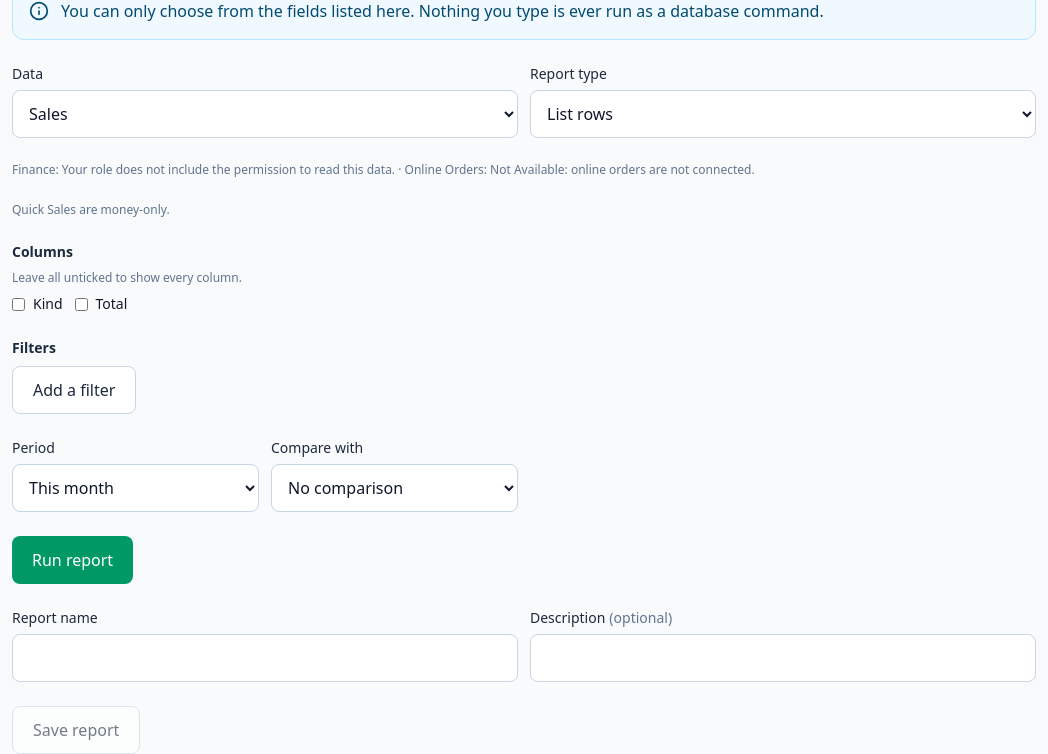
report builder › saves a named report
(page scrolled)
Expected: the dropdown labelled "Data" is shown, x1=12 y1=90 x2=518 y2=138
Expected: the button "Save report" is disabled, x1=12 y1=706 x2=140 y2=753
Type "Cash sales" into the field labelled "Report name".
click(265, 658); type("Cash sales")  # box x1=12 y1=634 x2=518 y2=682
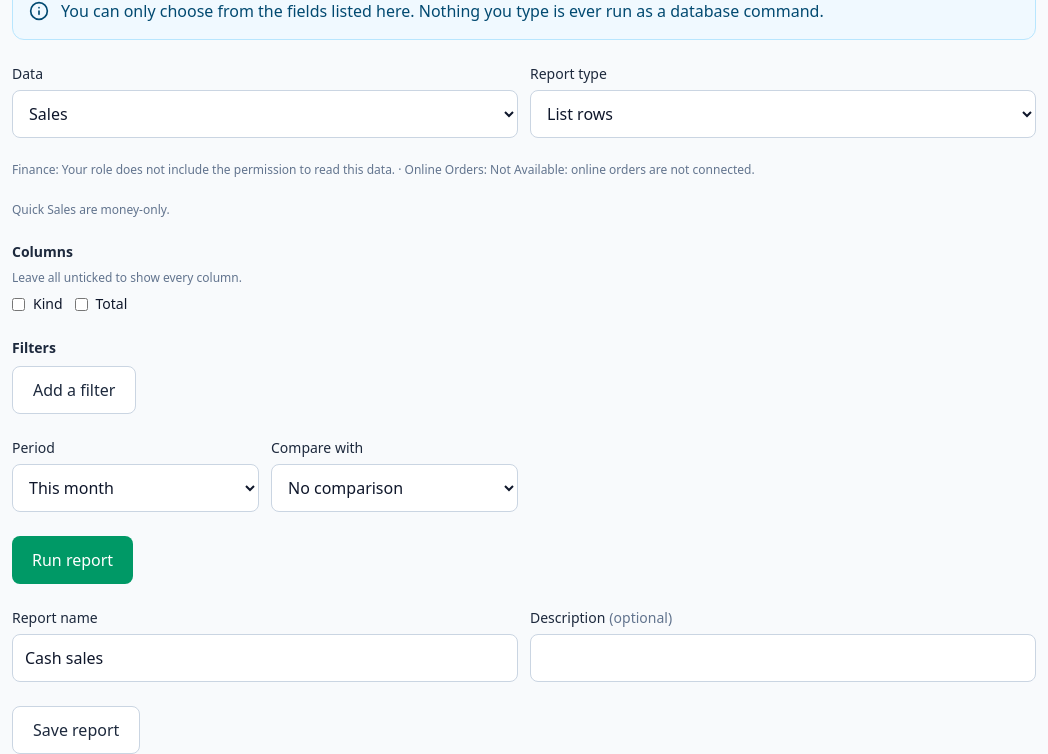
Click the button "Save report".
click(76, 730)  # box x1=12 y1=706 x2=140 y2=753
(page scrolled)
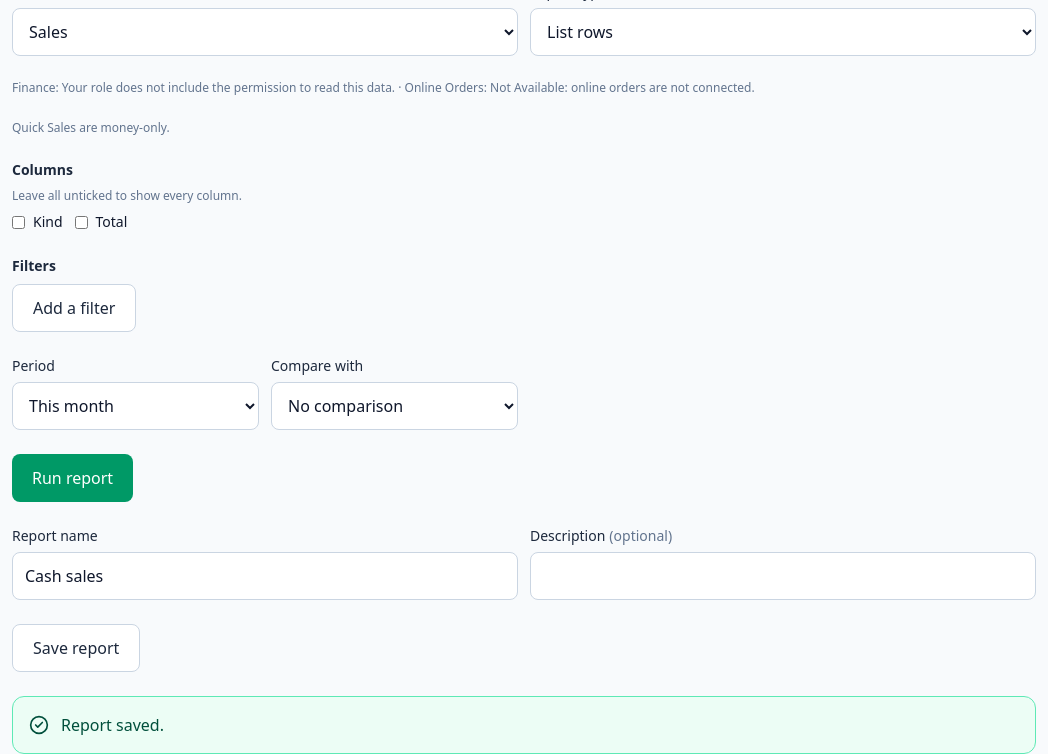
Expected: the text "Report saved." is shown, x1=61 y1=714 x2=164 y2=736
